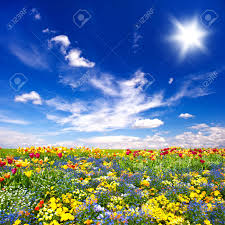flower: (4, 146, 225, 224)
sky: (2, 2, 224, 145)
